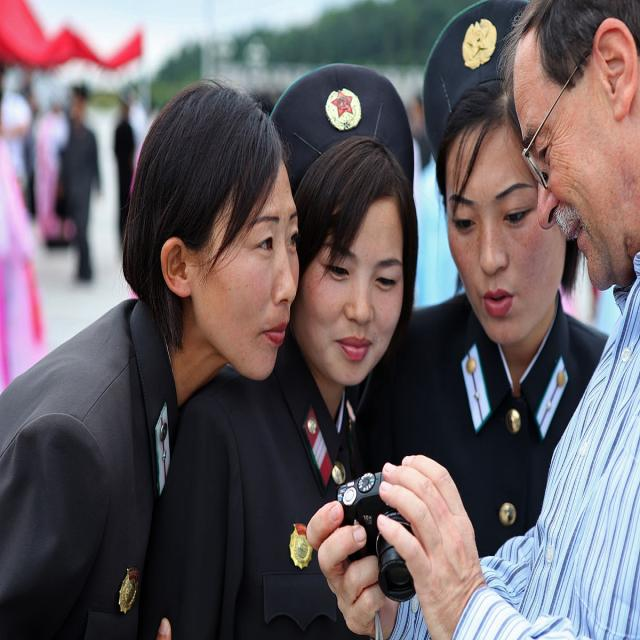body: (0, 75, 300, 640), (143, 51, 429, 640), (344, 0, 616, 587), (351, 0, 612, 558), (0, 59, 59, 382), (56, 82, 102, 282), (113, 97, 138, 237), (405, 97, 438, 169)
